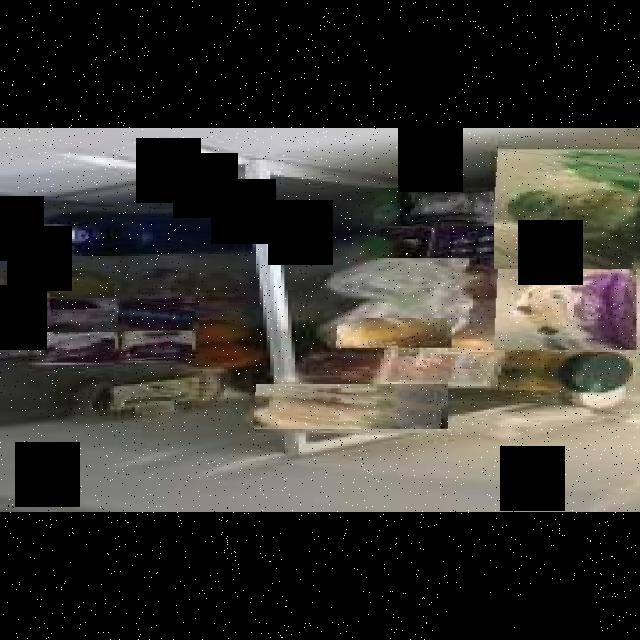grated_cheese: (494, 269, 633, 350)
lemon: (334, 318, 448, 348)
salad: (494, 149, 640, 269)
sausage: (250, 384, 442, 429)
yogurt: (373, 188, 519, 226), (363, 228, 533, 258), (0, 298, 121, 332), (0, 332, 124, 362), (118, 298, 196, 330), (114, 332, 192, 362)
